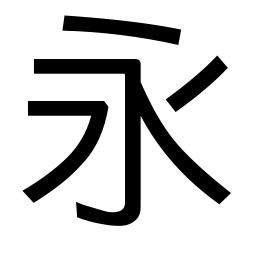D: (59, 11, 183, 46)
HSZ: (109, 57, 146, 88)
Hs: (31, 55, 64, 77)
Ne: (202, 178, 235, 207)
PNc: (145, 96, 181, 132)
PZe: (21, 177, 56, 204)
Ps: (203, 54, 230, 83)
SG: (73, 194, 143, 230)
Sm: (120, 141, 144, 180)
TPZ: (79, 97, 110, 138)
Ts: (26, 97, 56, 120)
